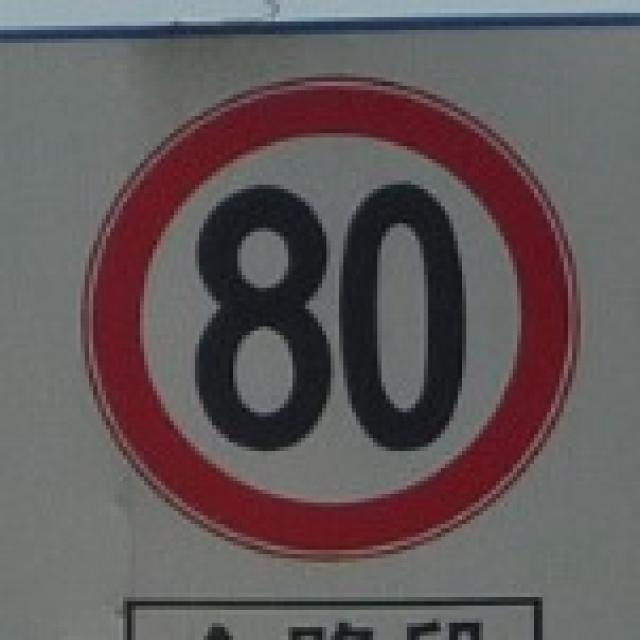Speed Limit -80-: (190, 177, 469, 457)
